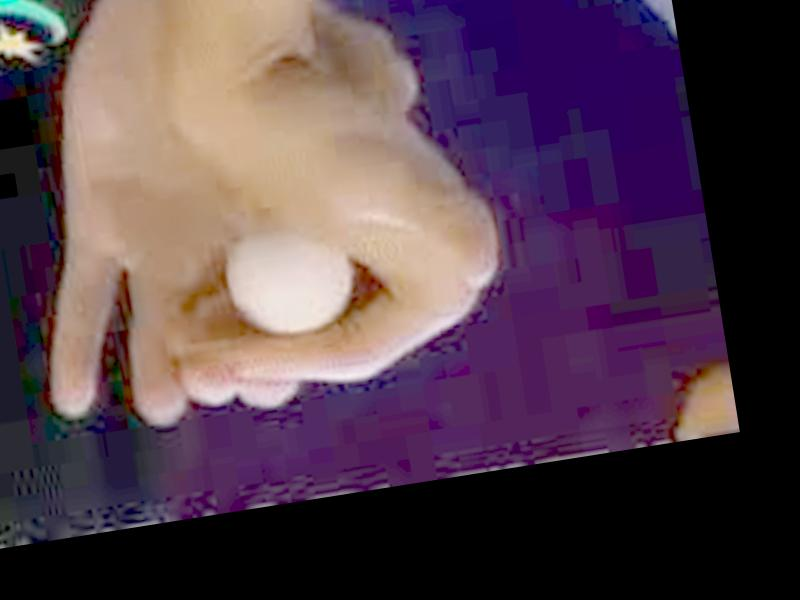Eggs: (220, 228, 363, 345)
